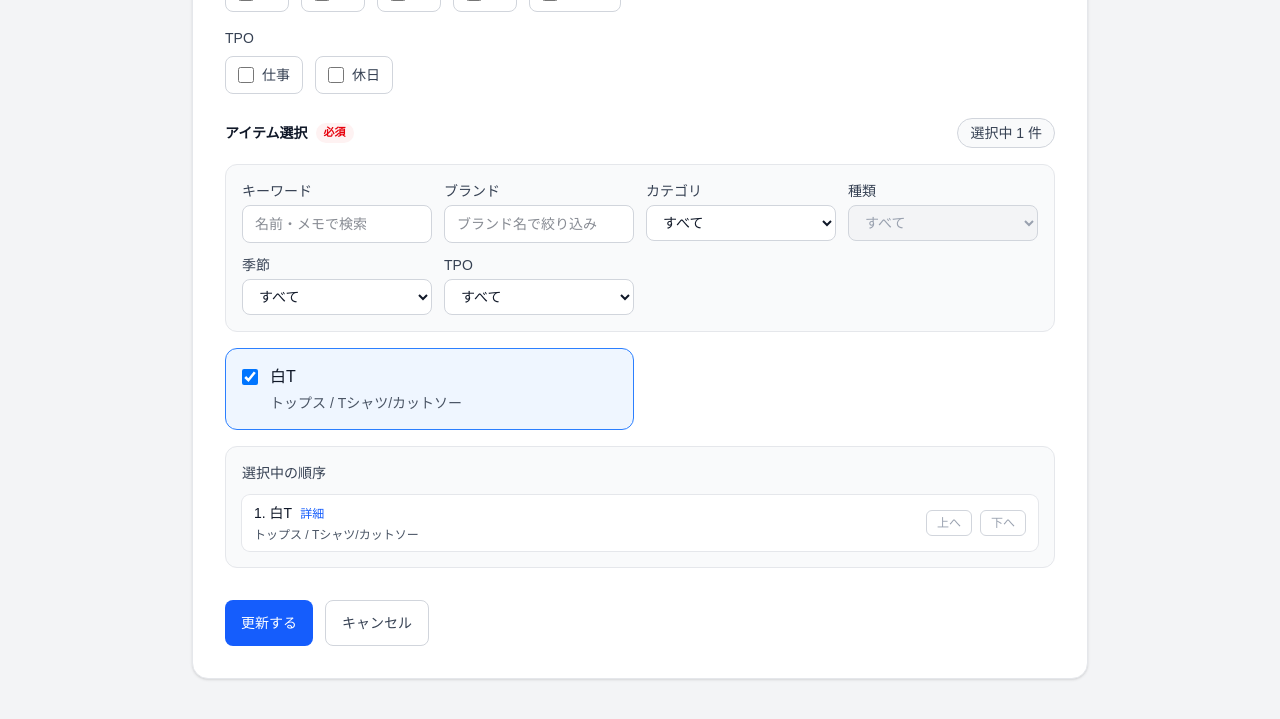
it: EditOutfitPage › 422 の field error を項目近くに表示する
(page scrolled)
Click the button "更新する" at (269, 623), box [225,600,313,646]
(page scrolled)
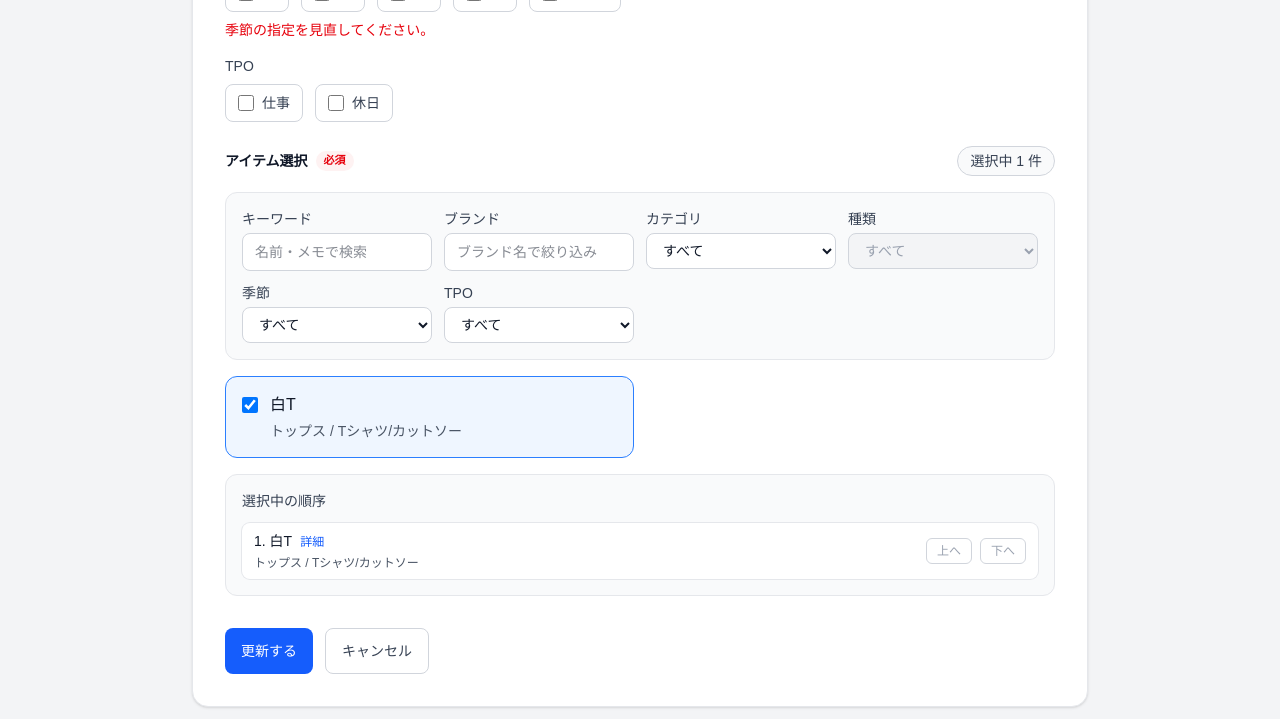
Now the text "季節の指定を見直してください。" is shown, box [225,22,434,38]
